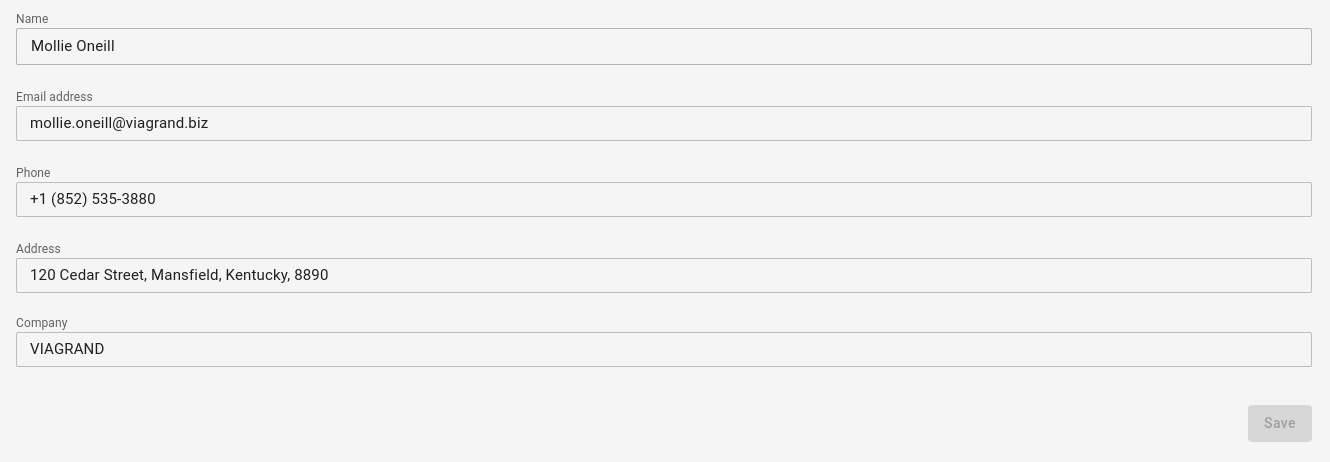
Form › should check the name`s field functionality
expect the button with test id "save-btn" is disabled: met, box x1=1248 y1=405 x2=1312 y2=442
Replace the text in the field with test id "name-field" with "John Smith" at (664, 46), box x1=16 y1=28 x2=1312 y2=65
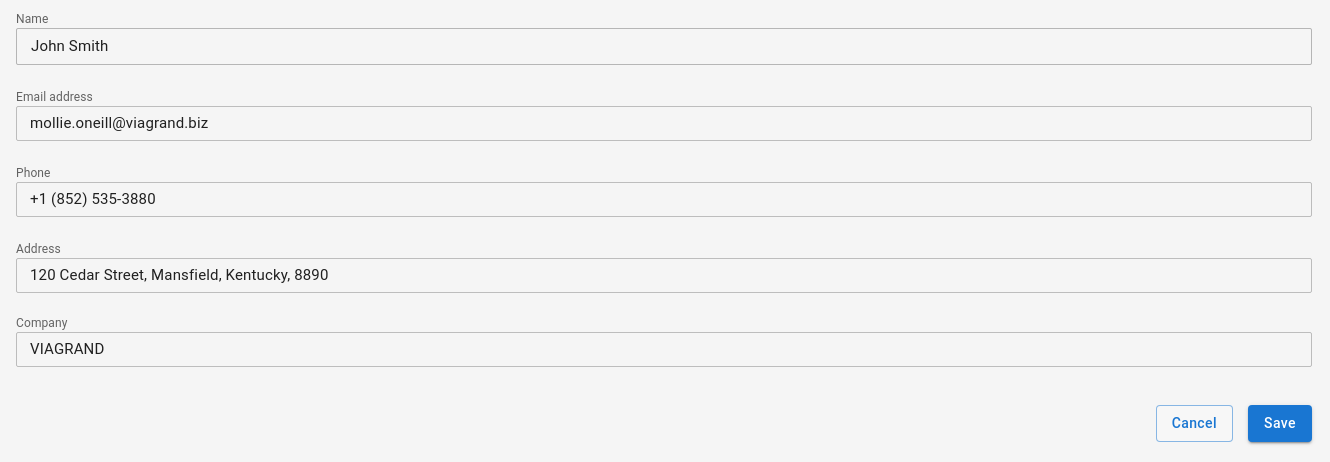
expect the button with test id "save-btn" is enabled: met, box x1=1248 y1=405 x2=1312 y2=442
expect the button with test id "cancel-btn" is shown: met, box x1=1156 y1=405 x2=1233 y2=442
